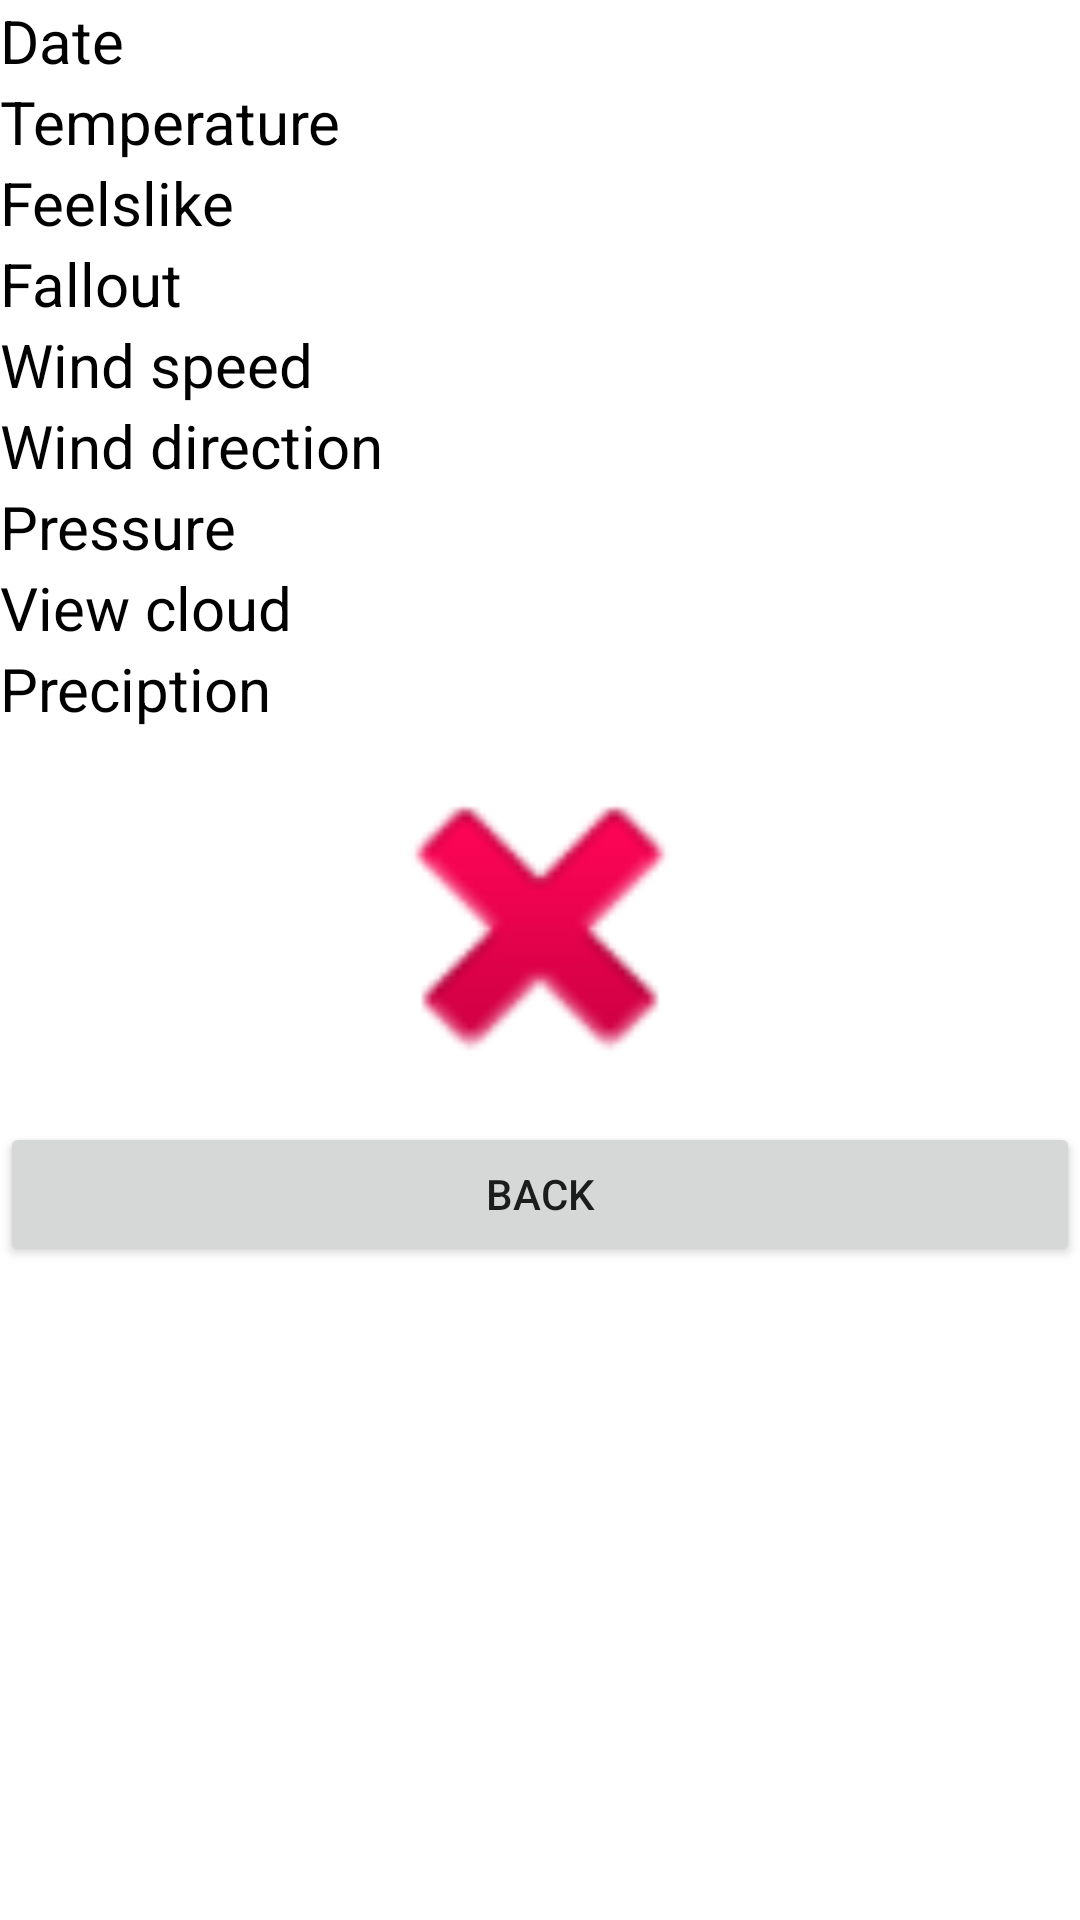

Icons on this 1080 x 1920 Android screen, each with its box as (x1, y1, x2, y2):
delete: (415, 806, 665, 1049)
